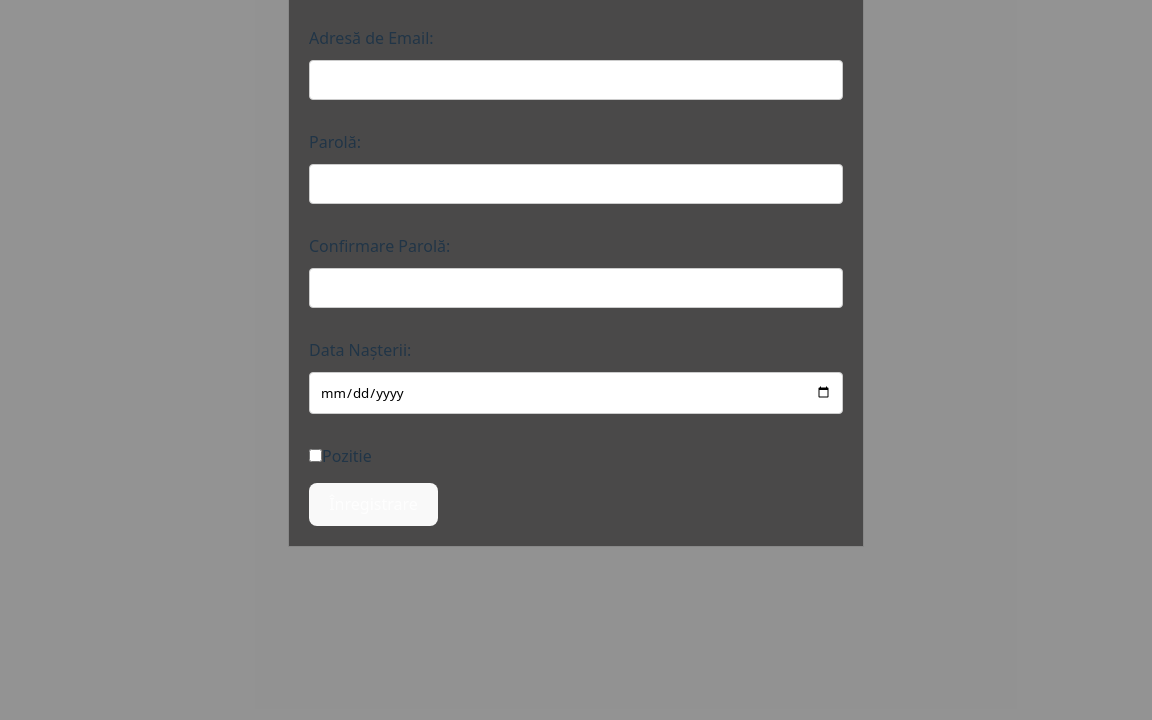
Scenario: RegistrationModal Component › should validate age
(page scrolled)
Type "2010-01-01" into the date field labelled "Data Nașterii:".
click(576, 393); type("2010-01-01")  # box [309,372,843,414]
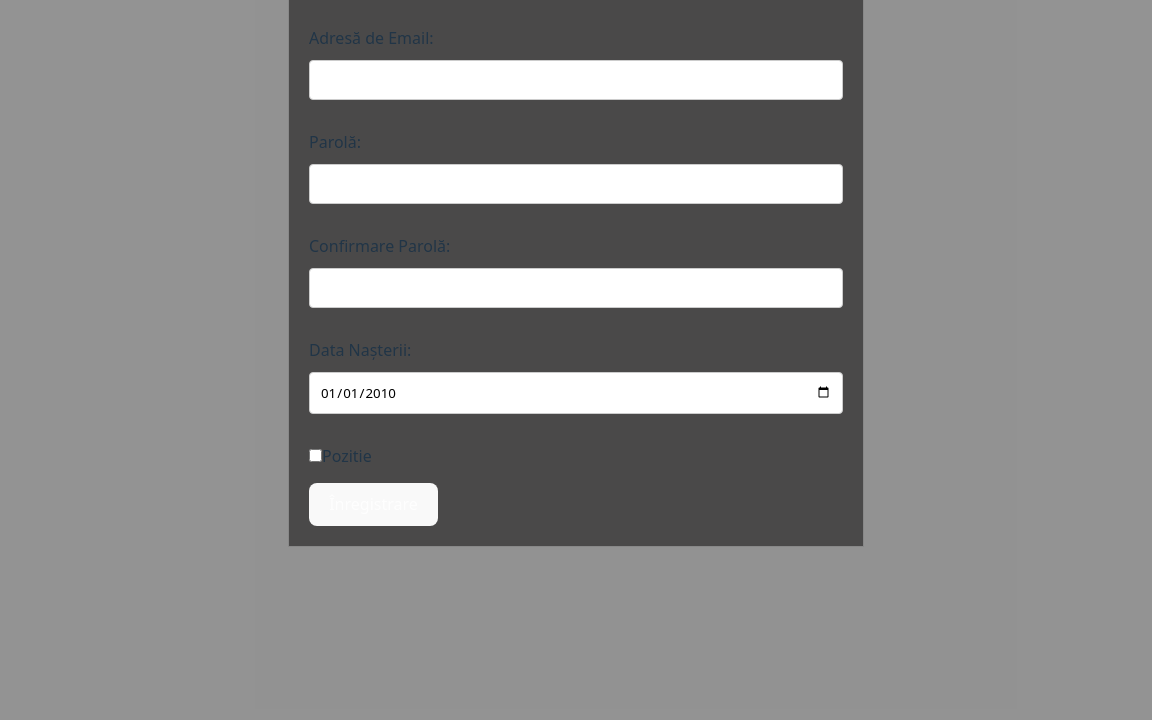
Click the button "Înregistrare".
click(374, 504)  # box [309,483,438,526]
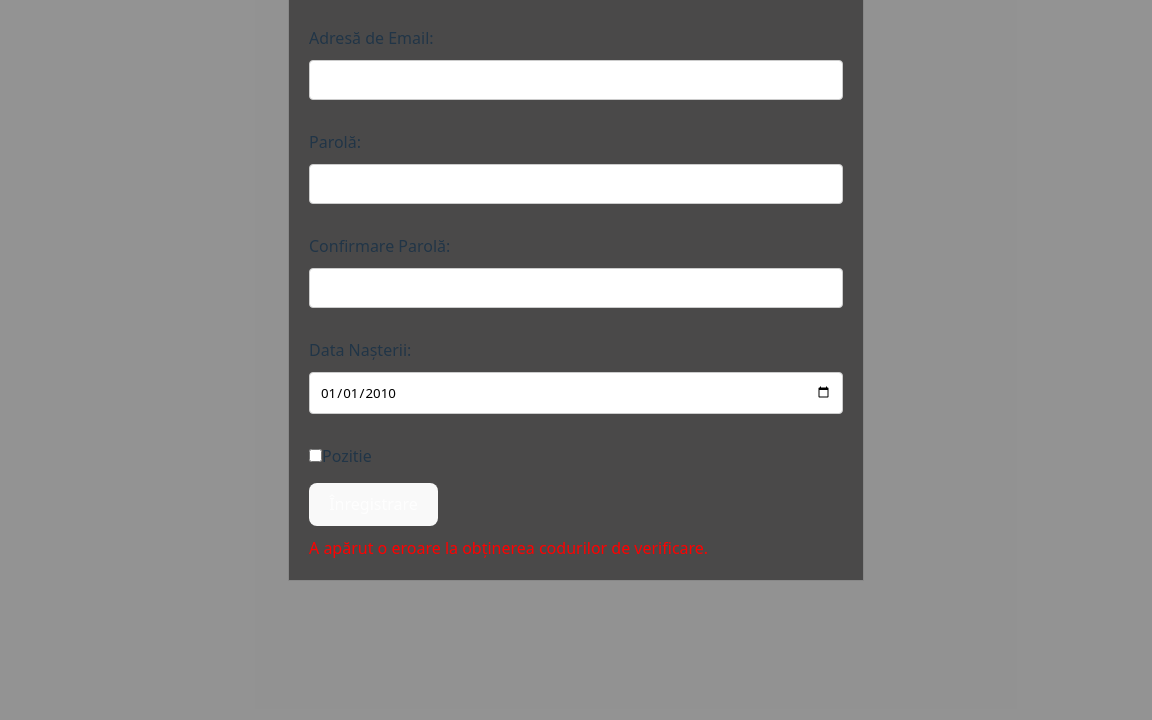
Result: the text "Trebuie să aveți cel puțin 18 ani pentru a vă înregistra." is shown at [309,537,708,559]
